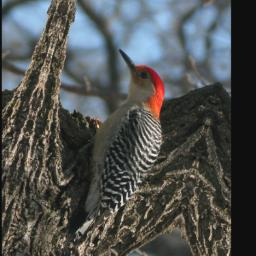Woodpecker: (51, 42, 186, 256)
